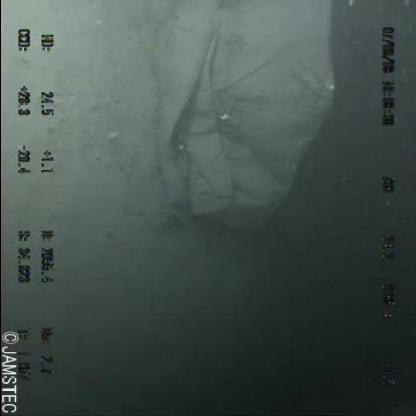Rác: (142, 1, 342, 242)
